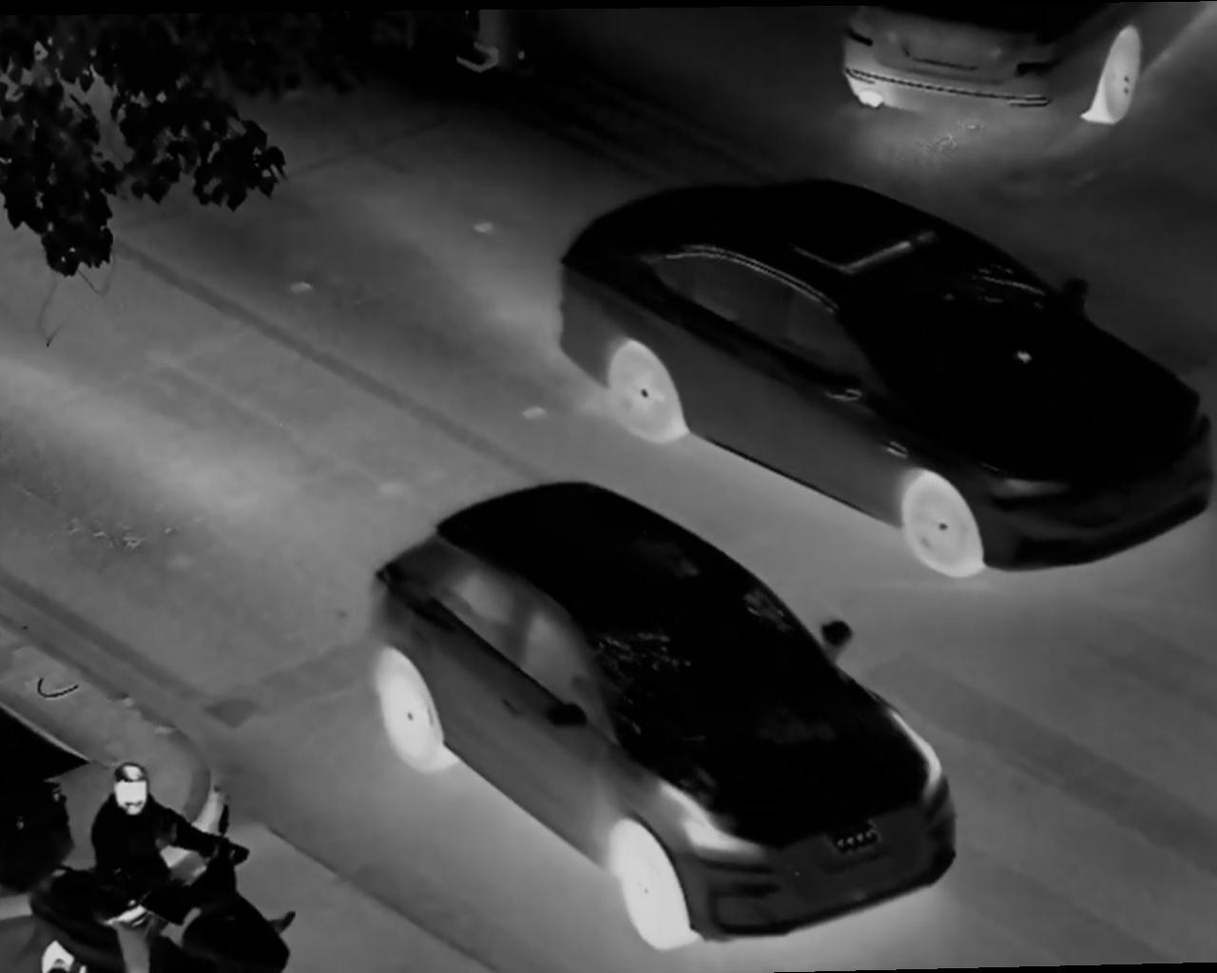person: (86, 758, 204, 973)
